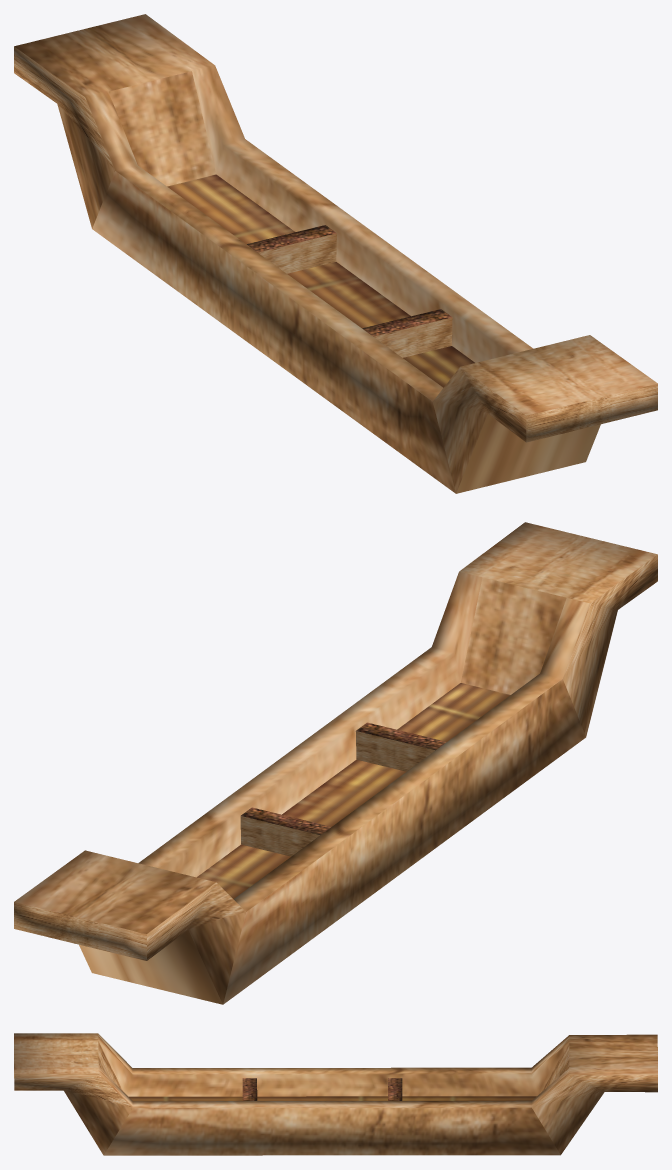
File: canoe_war.dae
3 views of the same model, one above another, from view 1: azimuth 30°, elevation 25°; view 2: azimuth 150°, elevation 25°; view 3: azimuth 270°, elevation 25° (orthographic). The views are drawn at different scales.
Parts seen in each view (by area): view 1: canoe_war; view 2: canoe_war; view 3: canoe_war.
Boxes of the visible parts, x1=… form: canoe_war: x1=14, y1=14, x2=657, y2=493; canoe_war: x1=14, y1=522, x2=657, y2=1004; canoe_war: x1=14, y1=1033, x2=657, y2=1155.
Size of the model in its own units: 2.71 by 17.85 by 2.51.
